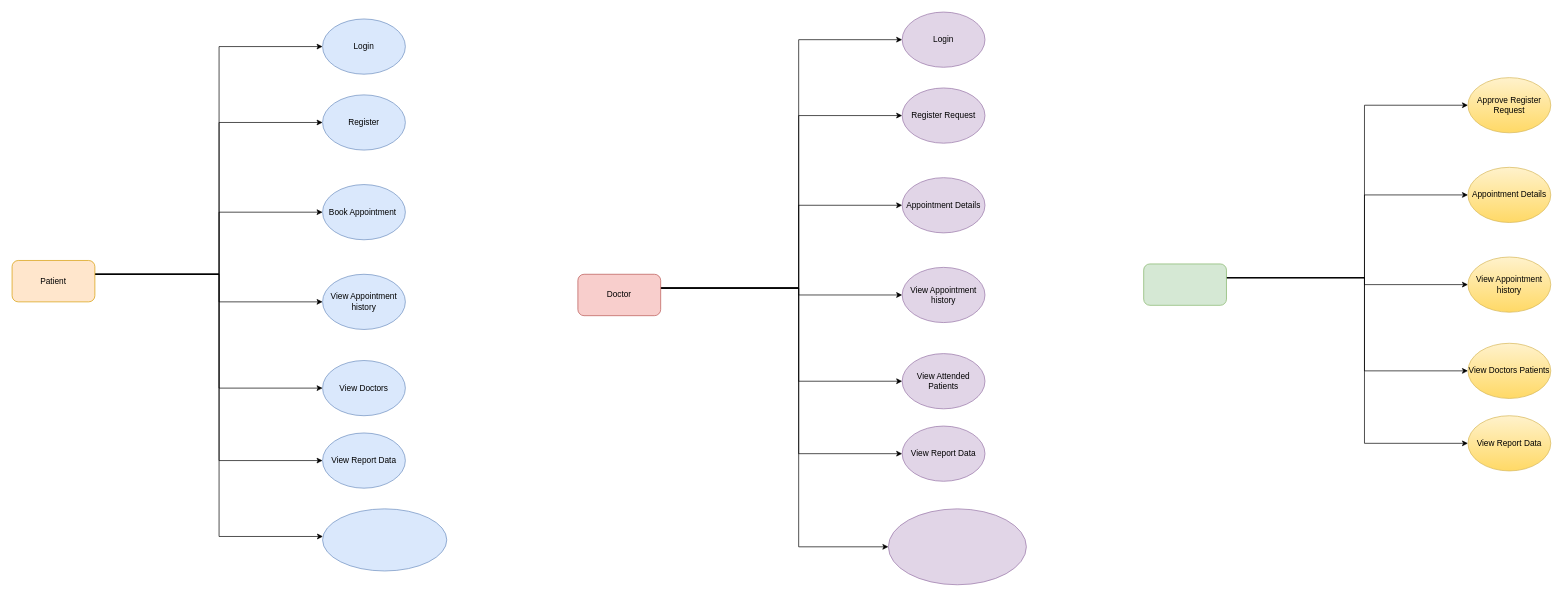
The diagram is 1563 pixels wide and 597 high, and some of its shapes have lost their labels. Each missing label, with the centre of its shape:
ADMIN: point (1184, 284)
Maintain Health Data and status: point (384, 539)
Provide Prescription, Review, analysis, suggestion to patients: point (957, 546)
